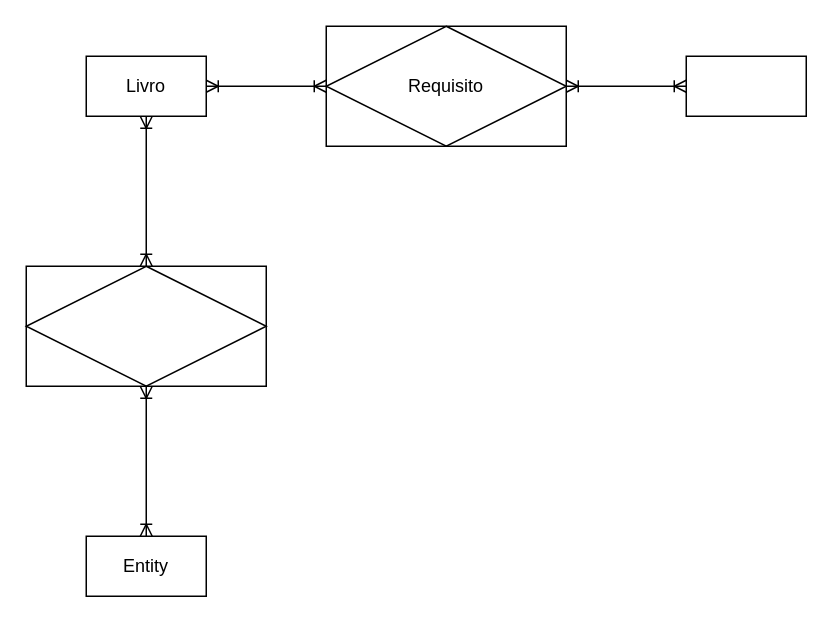
The diagram is 833 pixels wide and 623 high, and some of its shapes have lost their labels. The shapes that lost their labels are listed below. From the top down, each one's centre as x and y in pixels, then its label:
At (x=745, y=85): "Cliente".
At (x=145, y=325): "Escrito por:".
